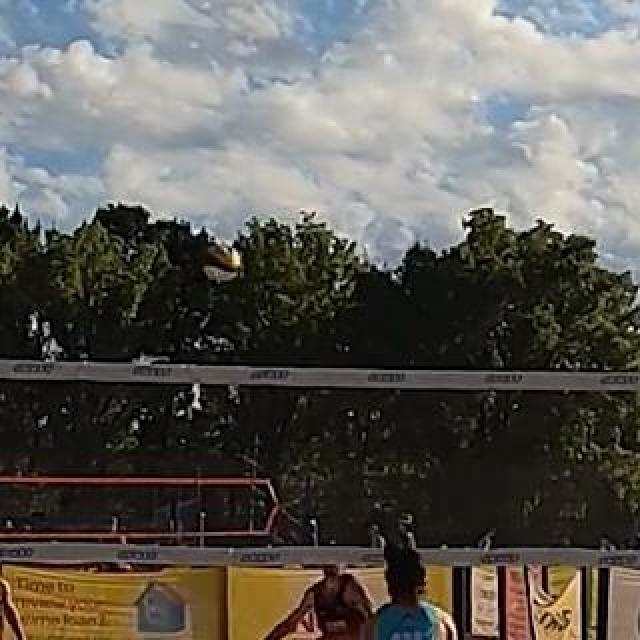volleyball: (202, 245, 240, 283)
